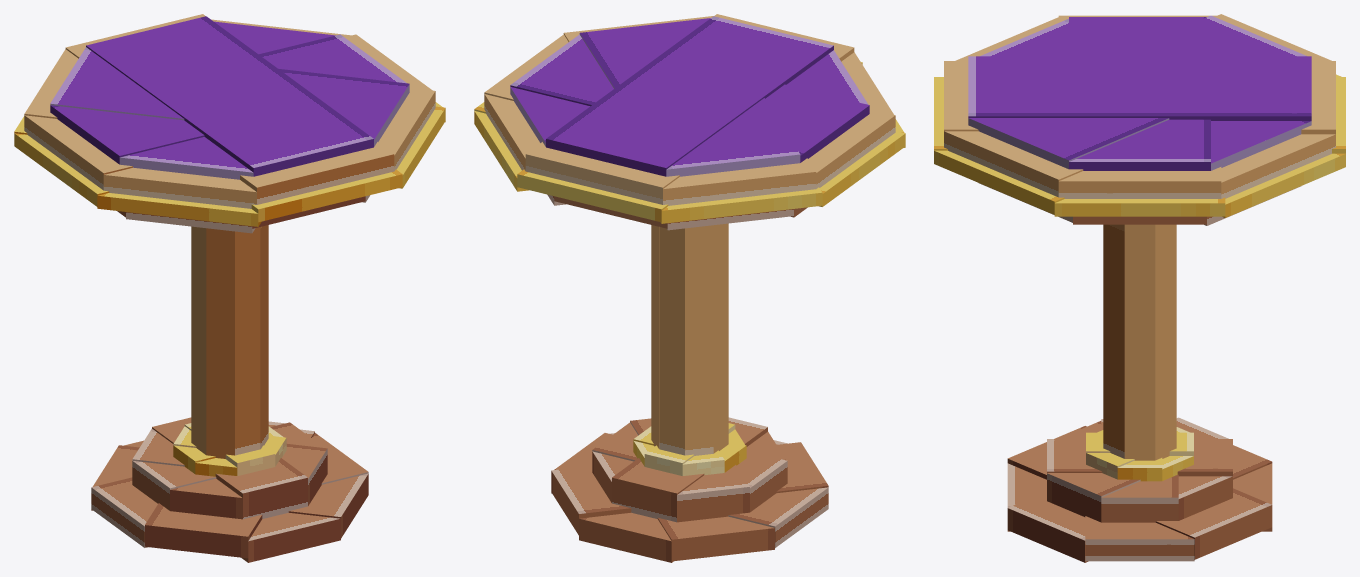
The model's file is game_table.gltf.
The picture shows the model from 3 angles, left to right: view 1: azimuth 30°, elevation 25°; view 2: azimuth 150°, elevation 25°; view 3: azimuth 270°, elevation 25°; orthographic projection. The views are drawn at different scales.
Visible parts, largest first — view 1: felt_top, felt_top_b1, felt_top_b2, column_b3, column, felt_top_b3, slab, slab_b3, foot_b3, slab_b2, plinth, foot_b2 (+18 smaller); view 2: felt_top, felt_top_b1, felt_top_b2, column_b1, column, slab, slab_b1, foot_b3, felt_top_b3, slab_b2, plinth, foot_b1 (+17 smaller); view 3: felt_top, felt_top_b1, felt_top_b2, column_b2, column_b3, column_b1, slab_b2, felt_top_b3, foot_b3, slab_b1, slab_b3, foot_b1 (+16 smaller).
Boxes of the visible parts, x1=… form: felt_top: x1=86, y1=16, x2=373, y2=176; felt_top_b1: x1=50, y1=47, x2=409, y2=146; felt_top_b2: x1=50, y1=34, x2=406, y2=164; column_b3: x1=206, y1=228, x2=234, y2=458; column: x1=235, y1=227, x2=260, y2=455; felt_top_b3: x1=119, y1=21, x2=335, y2=179; slab: x1=65, y1=14, x2=394, y2=204; slab_b3: x1=103, y1=19, x2=351, y2=208; foot_b3: x1=145, y1=429, x2=314, y2=558; slab_b2: x1=24, y1=34, x2=432, y2=190; plinth: x1=152, y1=417, x2=307, y2=519; foot_b2: x1=91, y1=433, x2=368, y2=547; felt_top: x1=546, y1=16, x2=833, y2=176; felt_top_b1: x1=579, y1=18, x2=800, y2=176; felt_top_b2: x1=510, y1=34, x2=869, y2=162; column_b1: x1=685, y1=225, x2=713, y2=455; column: x1=659, y1=227, x2=684, y2=455; slab: x1=525, y1=14, x2=854, y2=204; slab_b1: x1=563, y1=16, x2=816, y2=205; foot_b3: x1=551, y1=442, x2=828, y2=535; felt_top_b3: x1=510, y1=50, x2=868, y2=146; slab_b2: x1=484, y1=34, x2=895, y2=188; plinth: x1=612, y1=417, x2=767, y2=522; foot_b1: x1=609, y1=433, x2=774, y2=561; felt_top: x1=968, y1=56, x2=1311, y2=120; felt_top_b1: x1=968, y1=15, x2=1306, y2=169; felt_top_b2: x1=1069, y1=17, x2=1210, y2=170; column_b2: x1=1124, y1=224, x2=1155, y2=460; column_b3: x1=1155, y1=224, x2=1176, y2=460; column_b1: x1=1103, y1=224, x2=1124, y2=458; slab_b2: x1=1058, y1=15, x2=1221, y2=198; felt_top_b3: x1=980, y1=18, x2=1311, y2=170; foot_b3: x1=1007, y1=426, x2=1272, y2=559; slab_b1: x1=944, y1=14, x2=1331, y2=197; slab_b3: x1=955, y1=17, x2=1335, y2=198; foot_b1: x1=1007, y1=445, x2=1272, y2=562.
Size of the model in its own units: 0.84 by 0.95 by 0.84.
3 materials, 3 textured.
